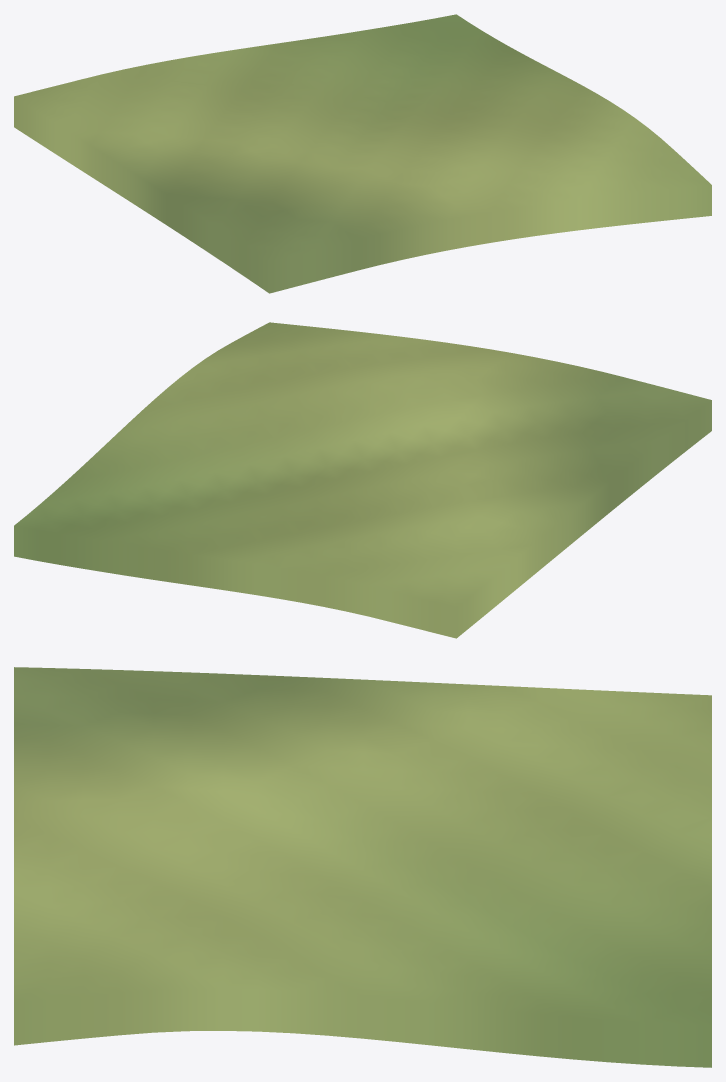
3 views of the same model, one above another, from view 1: azimuth 30°, elevation 25°; view 2: azimuth 150°, elevation 25°; view 3: azimuth 270°, elevation 25° (orthographic). The views are drawn at different scales.
Parts seen in each view (by area): view 1: terrain; view 2: terrain; view 3: terrain.
Boxes of the visible parts, bbox=[...] form: terrain: bbox=[14, 14, 711, 293]; terrain: bbox=[14, 322, 711, 638]; terrain: bbox=[14, 667, 711, 1067].
Bounding box in the file's own units: 30 × 5.12 × 30.
